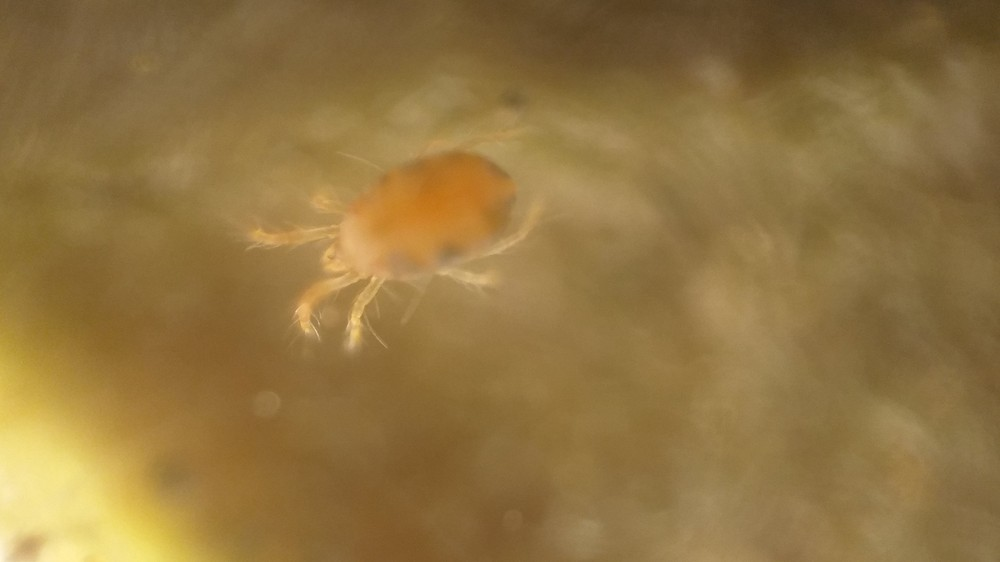Aracnido Rojo: (211, 91, 579, 360)
